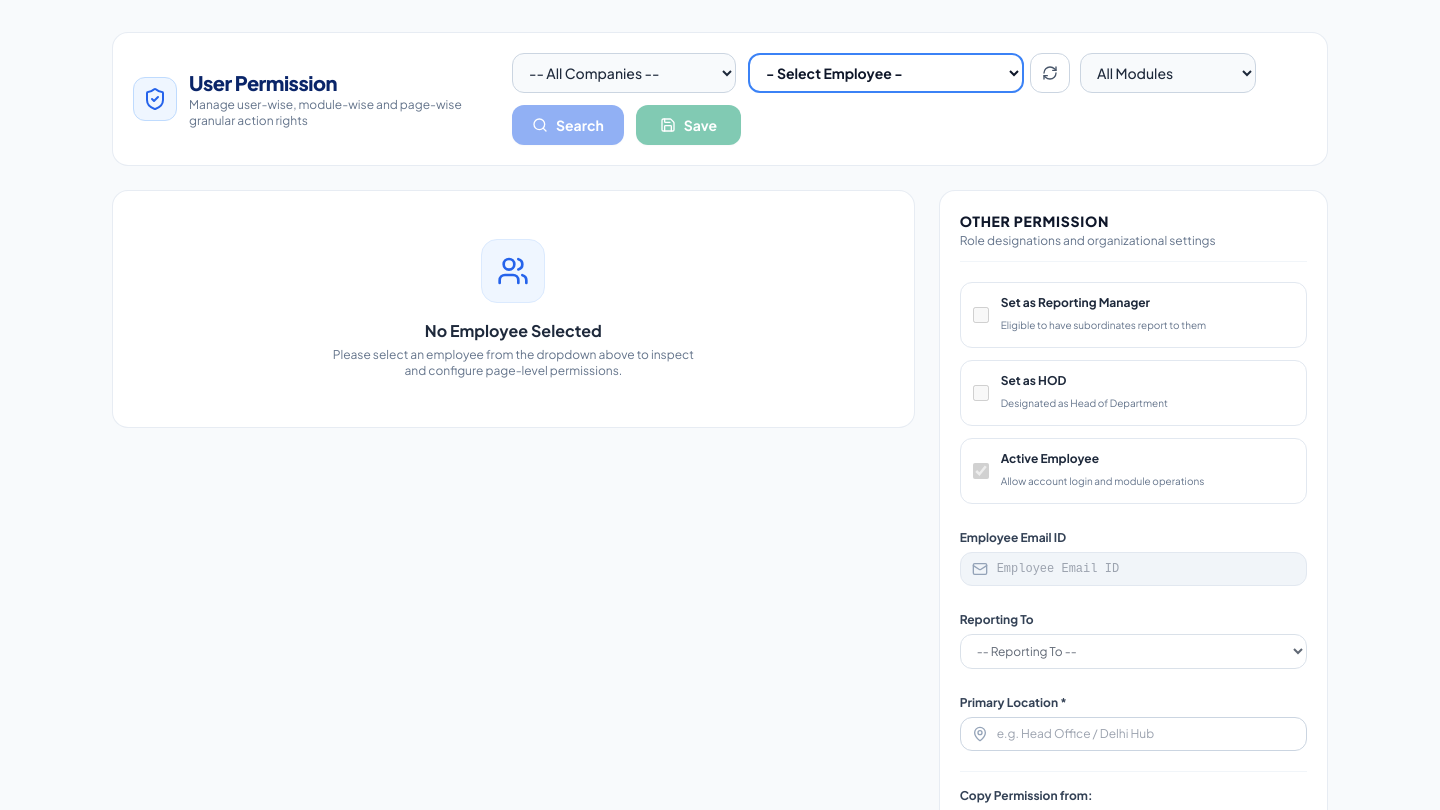
Test: Frontend UserPermissionsPage Component › clears stale selected employee when company filter excludes the employee
Select Rohit in Company 22222222-2222-2222-2222-222222222222
Select "CG0002 – Rohit Verma (ACTIVE)" in the dropdown named "Select Employee": (886, 73) [748,53,1024,93]
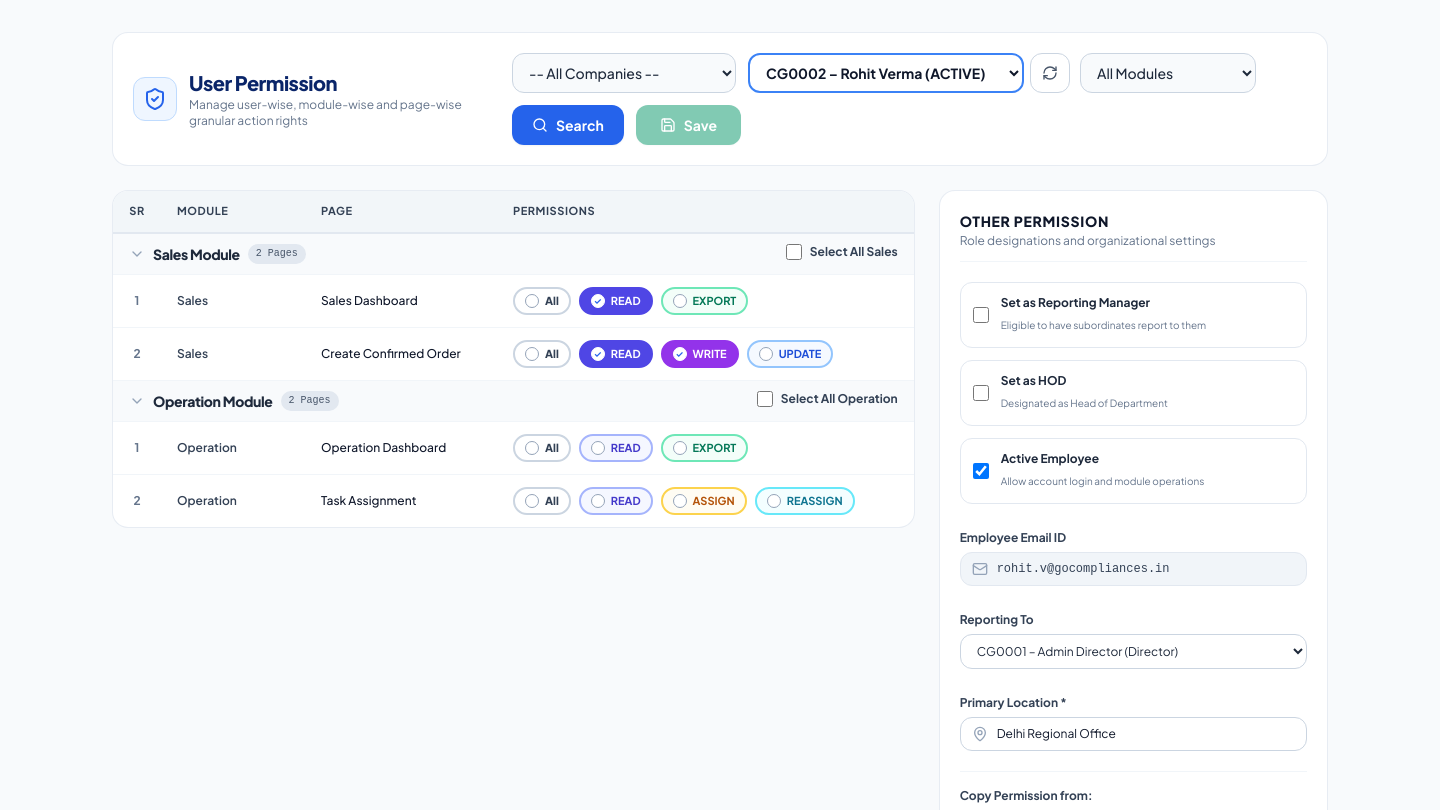
Result: the text "Sales Dashboard" is shown at [305,274,497,327]
Change company to Enterpernership (company 33333333) without dirty state
Select "ENTERPERNERSHIP – Enterpernership" in the dropdown named "Filter by Company": (624, 73) [512,53,736,93]
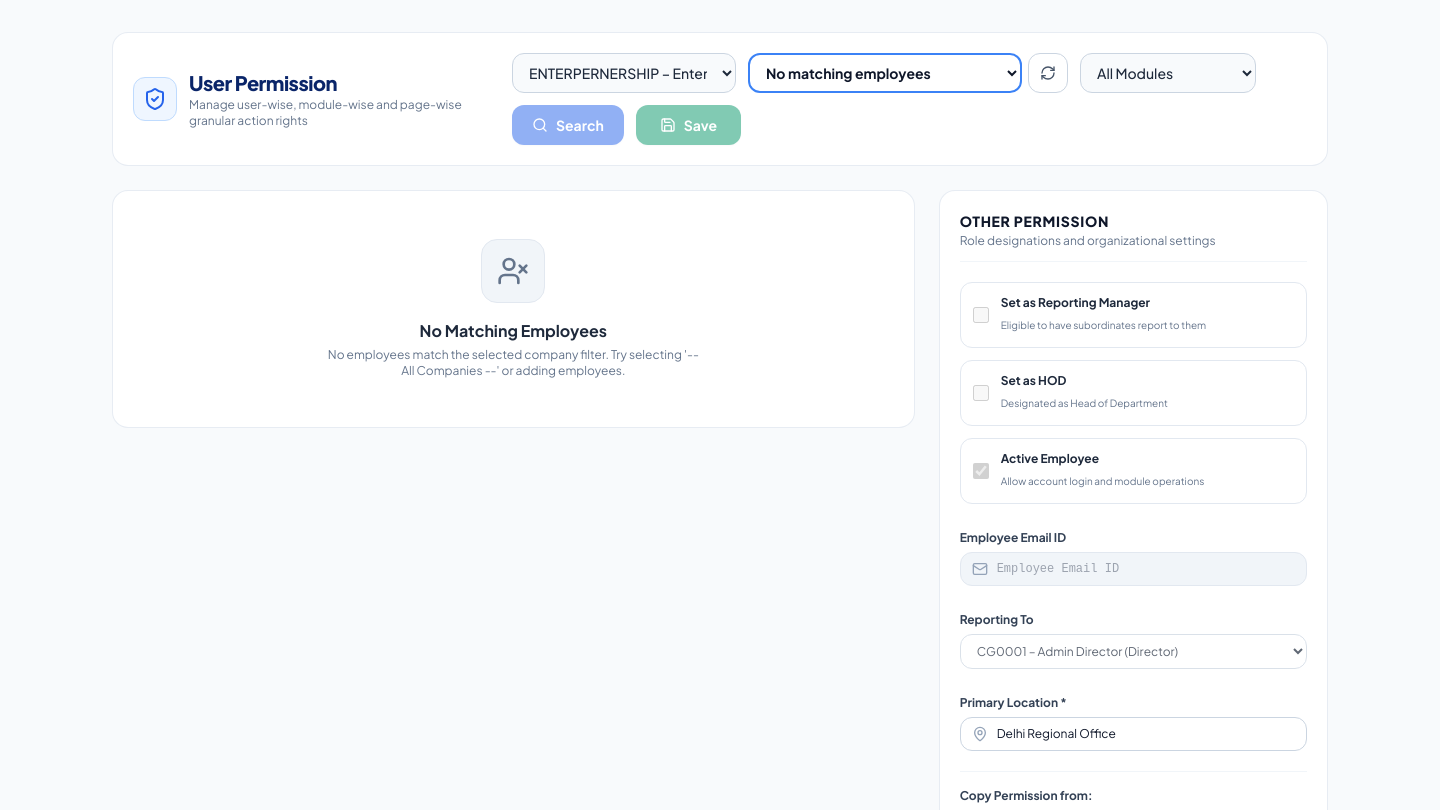
Result: the heading "No Matching Employees" is shown at [420,320,607,341]
